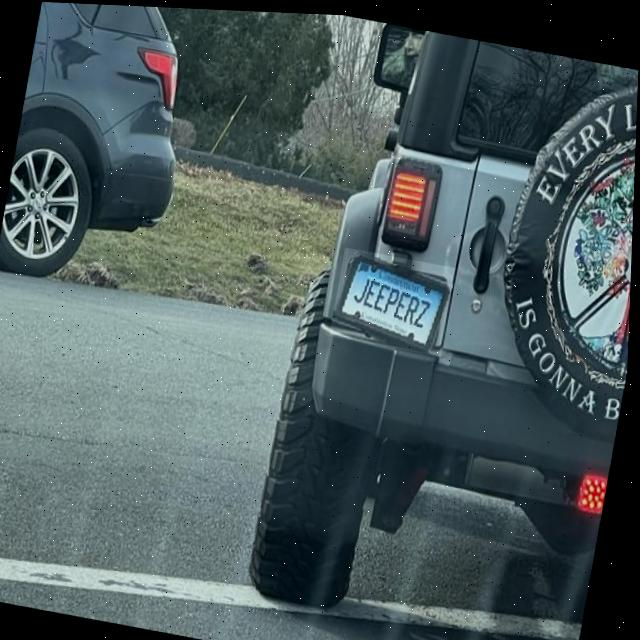LicensePlate: (335, 246, 455, 350)
